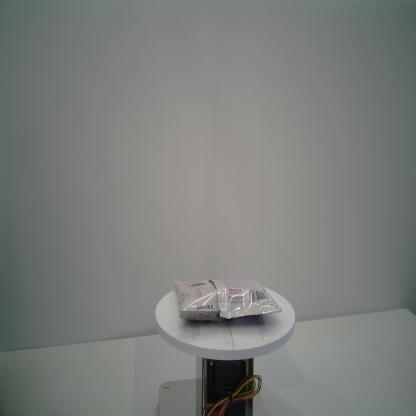Instant Drink: (173, 278, 282, 322)
